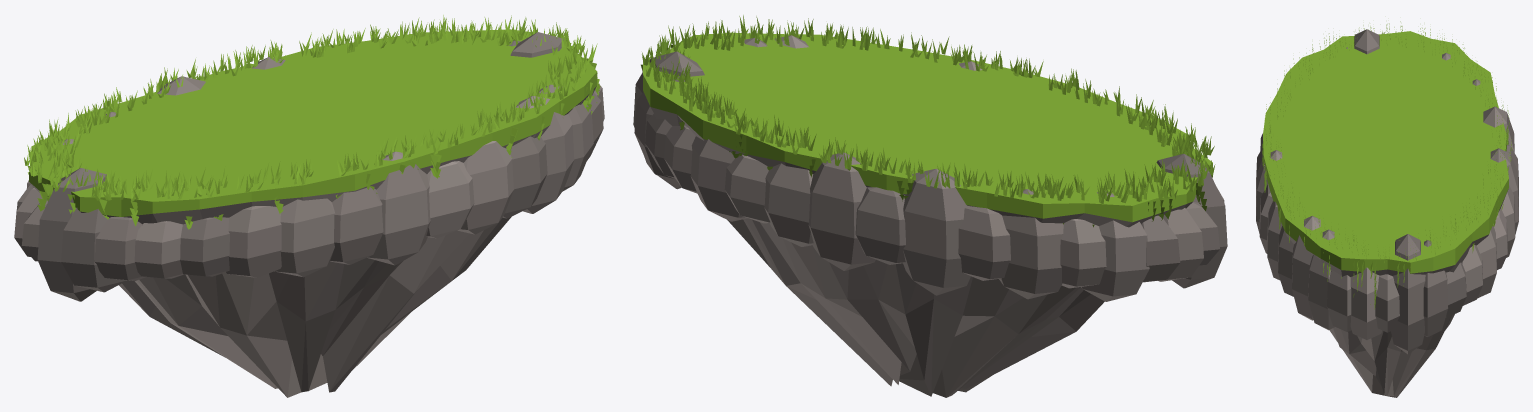
Rendered from Meadow.glb.
3 renders of one model, left to right at view 1: azimuth 30°, elevation 25°; view 2: azimuth 150°, elevation 25°; view 3: azimuth 270°, elevation 25°, orthographic. The views are drawn at different scales.
Visible parts, largest first — view 1: Meadow; view 2: Meadow; view 3: Meadow.
Part boxes in pixels (box(x1,y1,x2,y2)): Meadow: box(14, 15, 604, 397); Meadow: box(633, 15, 1227, 397); Meadow: box(1256, 21, 1518, 397).
Size of the model in its own units: 12.43 by 6.04 by 5.6.
